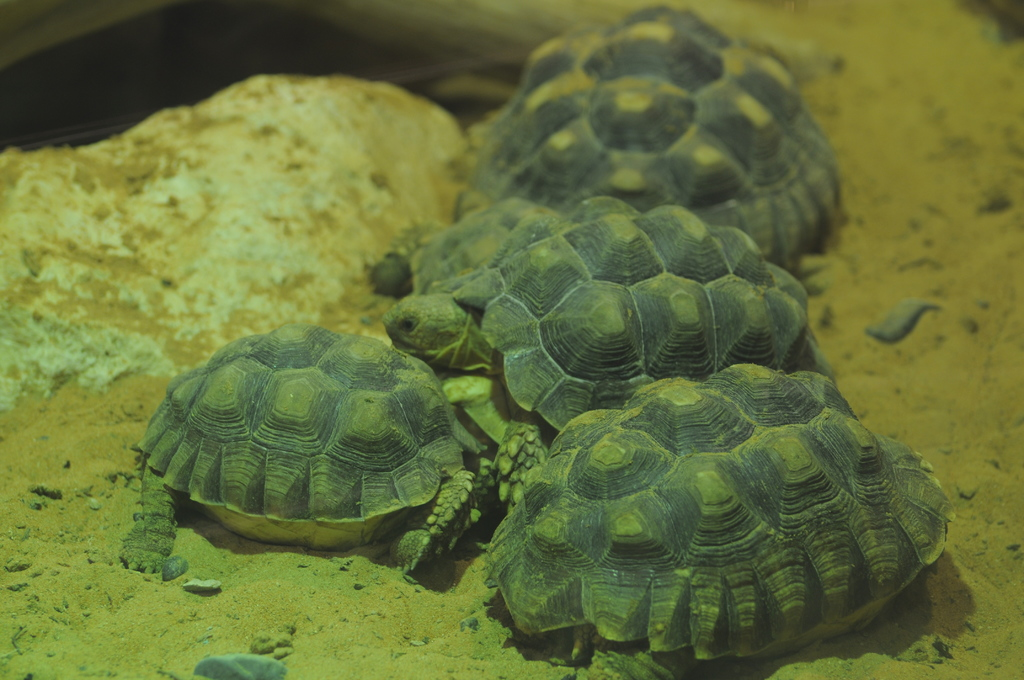Sea turtles: (119, 1, 961, 679)
